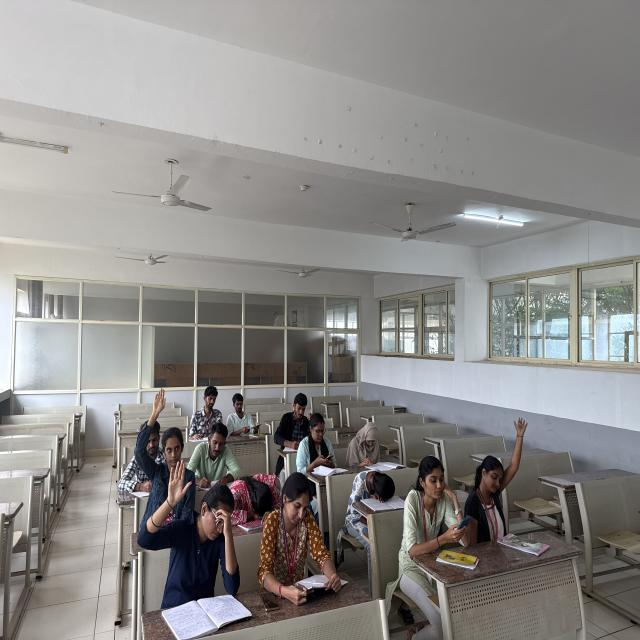Hand Rising: (144, 458, 241, 574), (469, 408, 538, 542), (131, 382, 185, 482)
Reading: (351, 413, 396, 471), (190, 381, 223, 451)
Sleeping: (224, 464, 280, 524), (341, 466, 400, 506)
Using Phone: (399, 454, 476, 546), (300, 411, 336, 465), (225, 388, 261, 437)
Writing: (192, 418, 240, 486), (267, 389, 307, 449)
